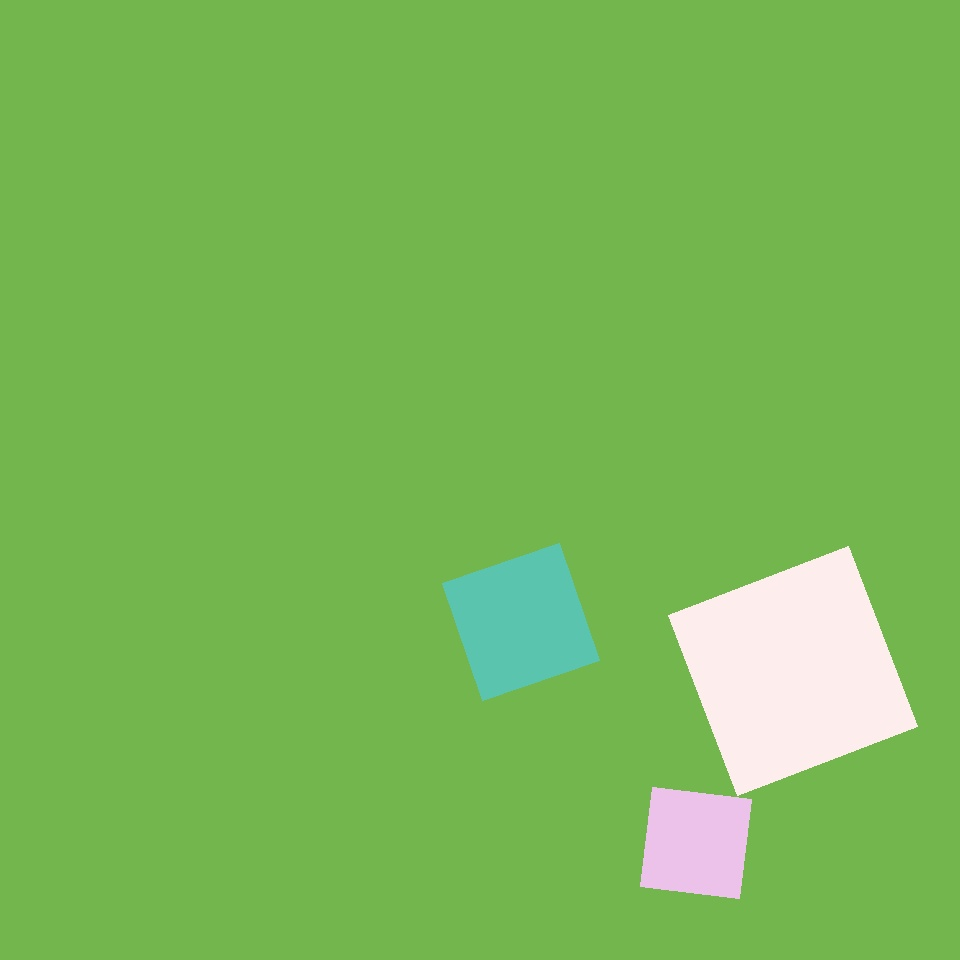square: (668, 546, 918, 796), (688, 172, 913, 396), (565, 757, 740, 932), (442, 544, 600, 700), (640, 788, 752, 899)
